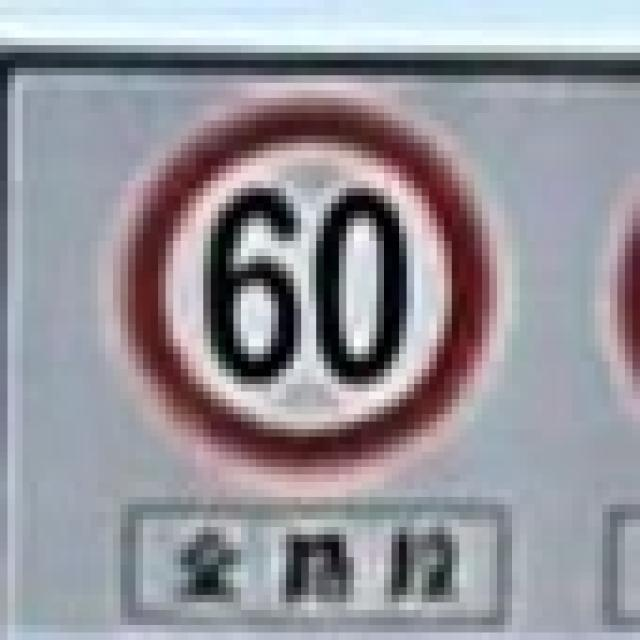Speed Limit -60-: (199, 179, 414, 392)
